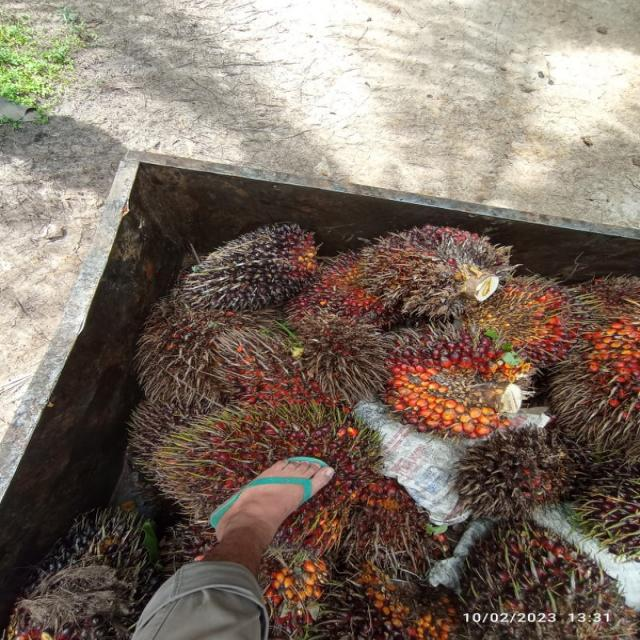fraksi 00: (457, 506, 632, 640), (167, 210, 342, 308)
fraksi 1: (340, 210, 540, 322), (460, 262, 590, 379)
fraksi 3: (363, 328, 530, 453), (285, 243, 396, 336)
fraksi 4: (226, 324, 353, 431)
